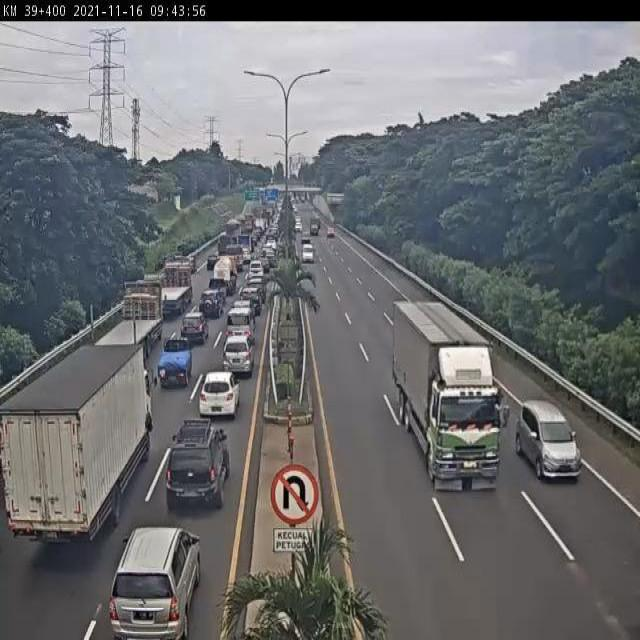car: (110, 525, 202, 640), (163, 420, 230, 519), (516, 399, 582, 481), (199, 368, 239, 421), (156, 339, 195, 392), (222, 335, 255, 380), (225, 308, 254, 348), (178, 312, 206, 345), (199, 291, 222, 321)
truck-l-: (392, 299, 508, 493), (89, 283, 163, 360), (151, 259, 193, 317)
truck-m-: (0, 347, 146, 573)
